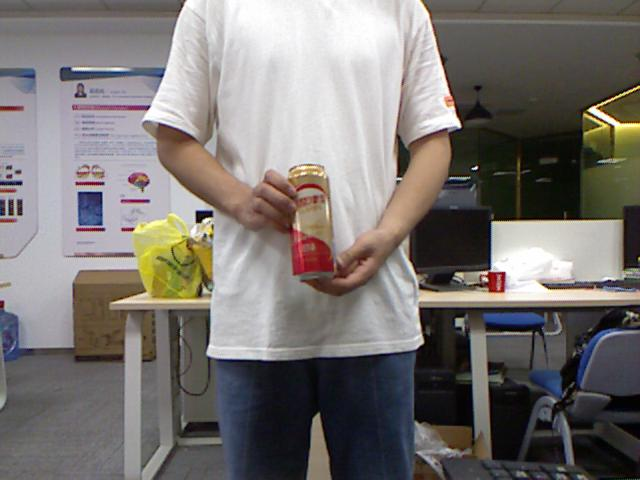metal: (288, 164, 335, 281)
